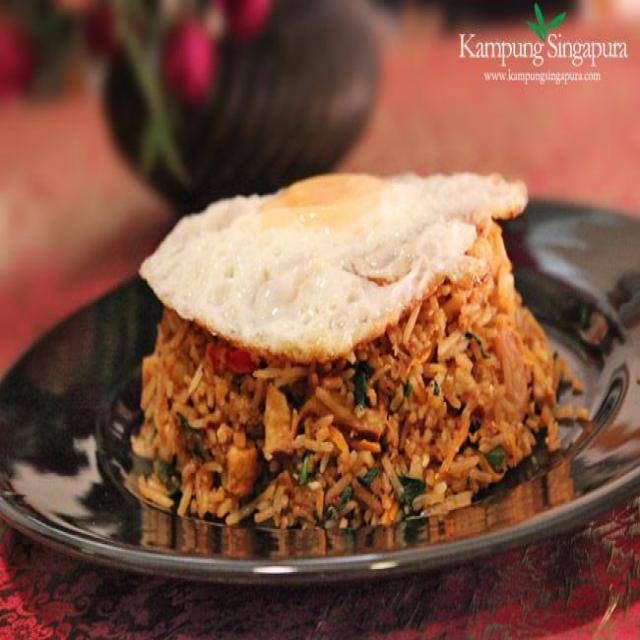Nasi Goreng: (127, 167, 587, 534)
